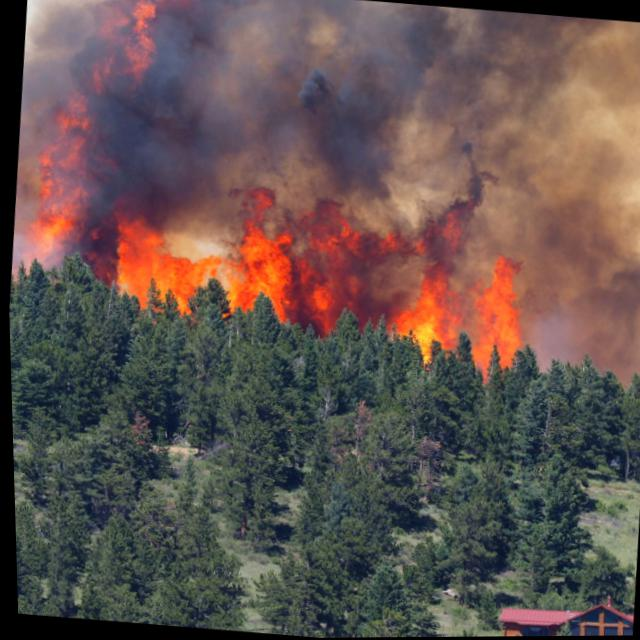fire: (8, 0, 561, 392)
